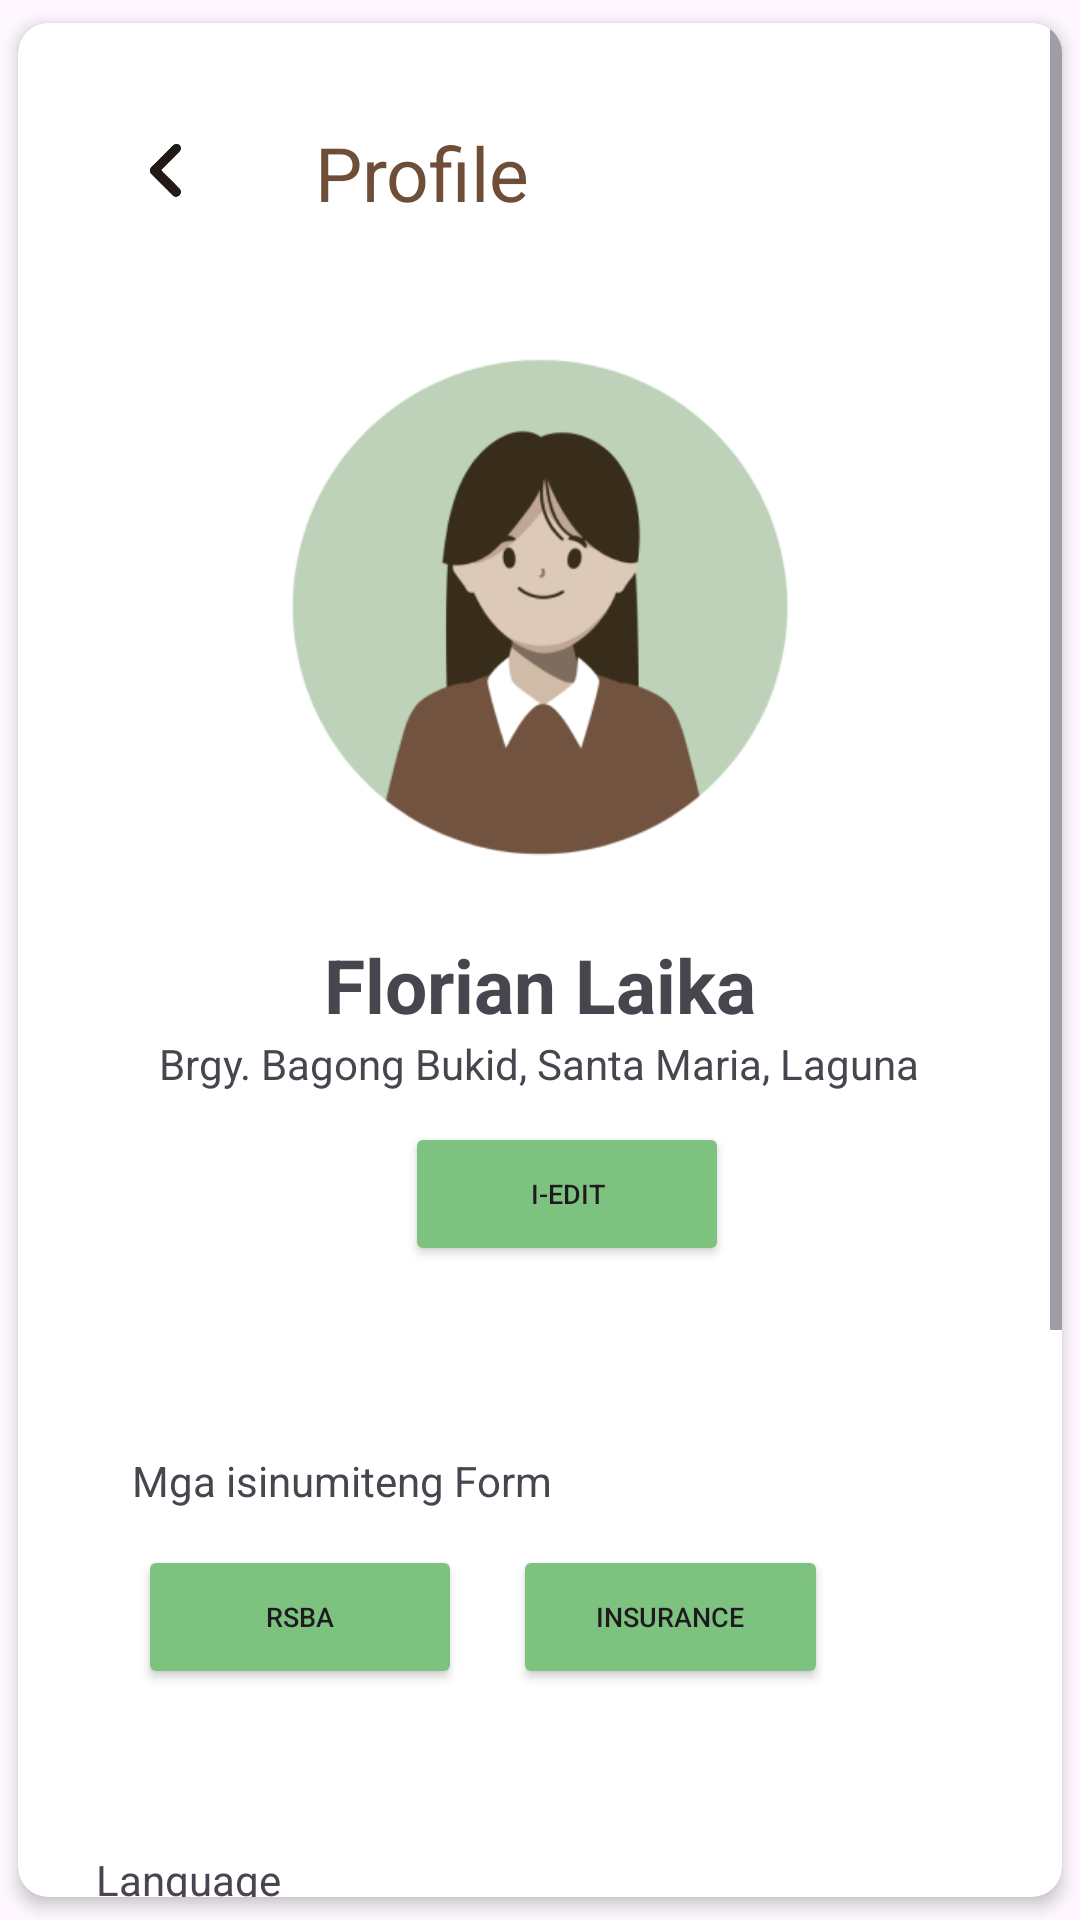

Where to tap for icons on this 1080×1920 app screen, as (x,y):
back: (165,170)
